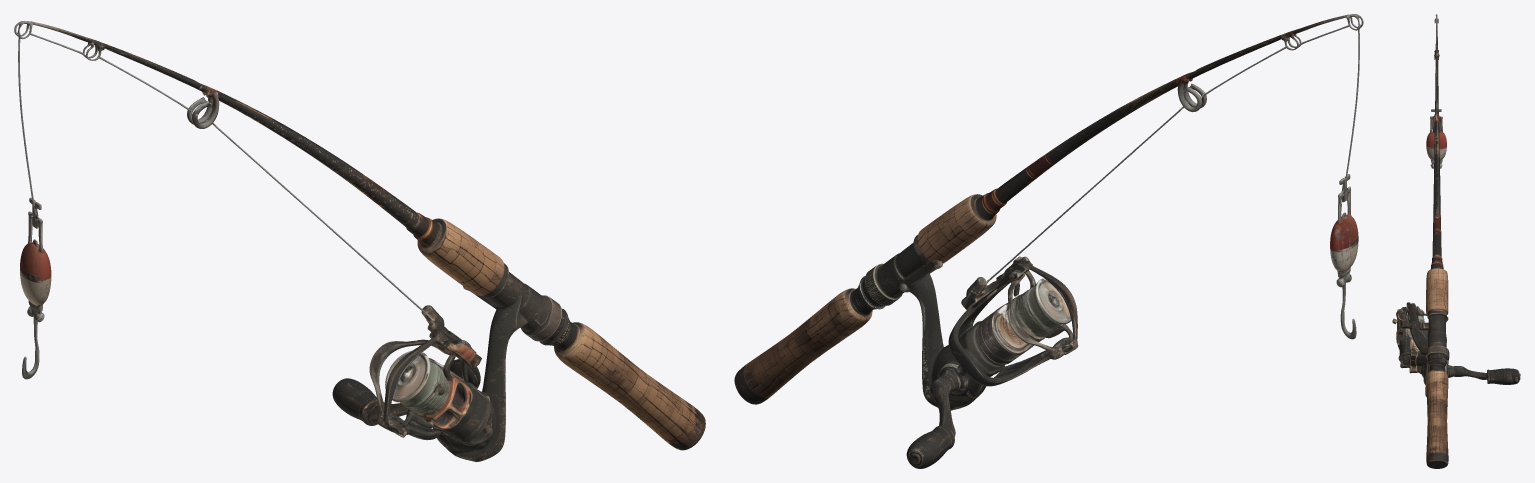
File: angel_rolle_original.glb
3 views of the same model, side by side, from view 1: azimuth 30°, elevation 25°; view 2: azimuth 150°, elevation 25°; view 3: azimuth 270°, elevation 25° (orthographic). The views are drawn at different scales.
Size of the model in its own units: 1.9 by 1.55 by 0.6118.
1 material, 1 textured.
